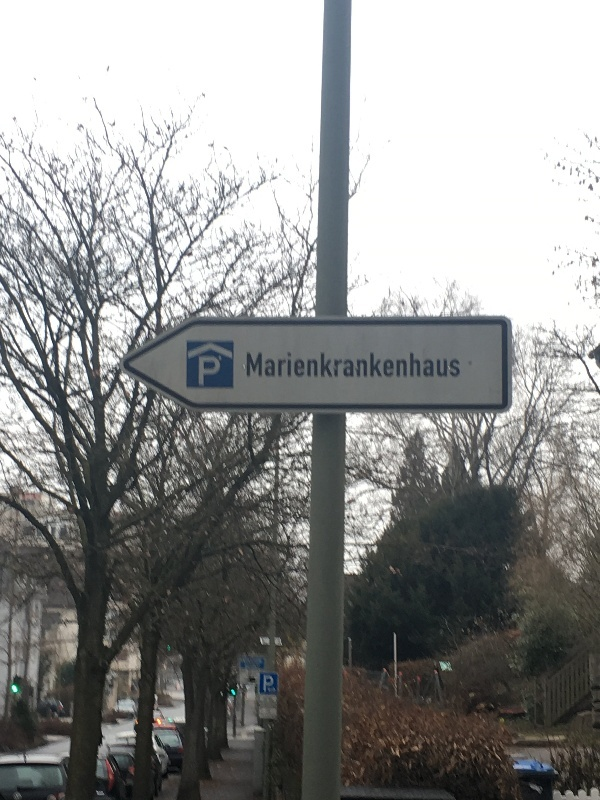text: (257, 351, 272, 379), (273, 351, 288, 379), (289, 351, 304, 379), (305, 351, 320, 379), (321, 351, 336, 379), (337, 351, 352, 379), (353, 351, 368, 379), (369, 351, 384, 379), (385, 351, 400, 379), (401, 351, 416, 379), (417, 351, 432, 379), (433, 351, 448, 379), (209, 355, 221, 387), (449, 351, 460, 379), (199, 355, 208, 387), (247, 351, 256, 379), (264, 675, 272, 693), (273, 675, 274, 693)
